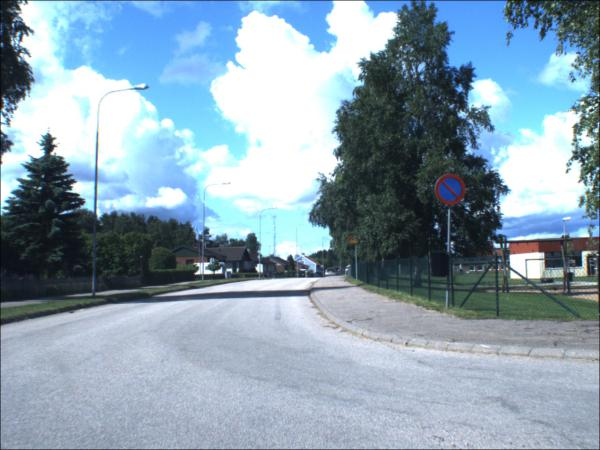NO_PARKING: (435, 175, 468, 208)
